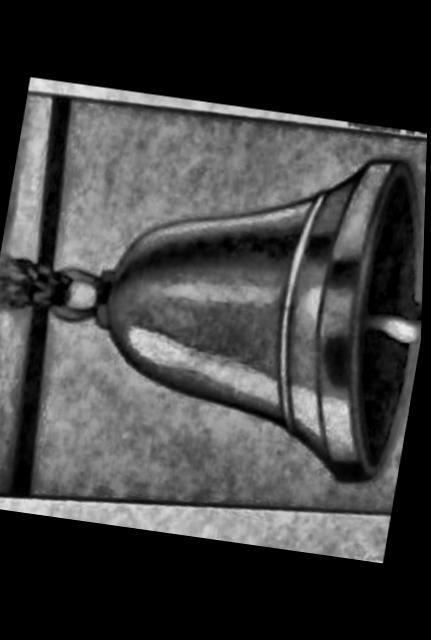La Campana: (0, 89, 428, 510)
